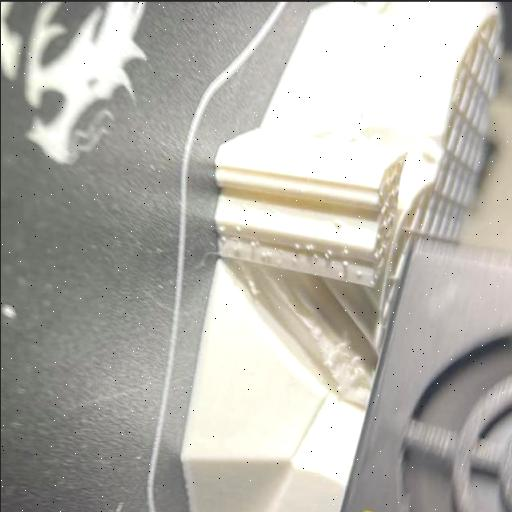blobs: (330, 214, 343, 230), (246, 236, 258, 250), (230, 220, 242, 232), (260, 248, 274, 258), (214, 222, 228, 232), (338, 257, 350, 268), (321, 249, 333, 260), (304, 242, 317, 252), (335, 268, 346, 278), (290, 238, 300, 249), (288, 254, 299, 264), (354, 267, 364, 277), (340, 244, 350, 254), (218, 234, 226, 240)
